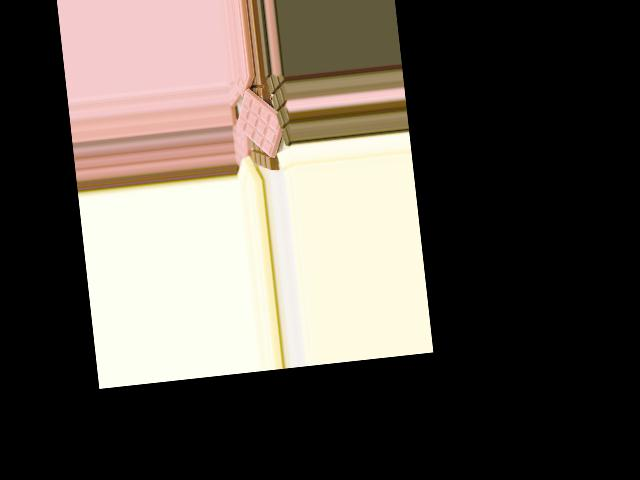chocolate: (231, 84, 293, 160)
